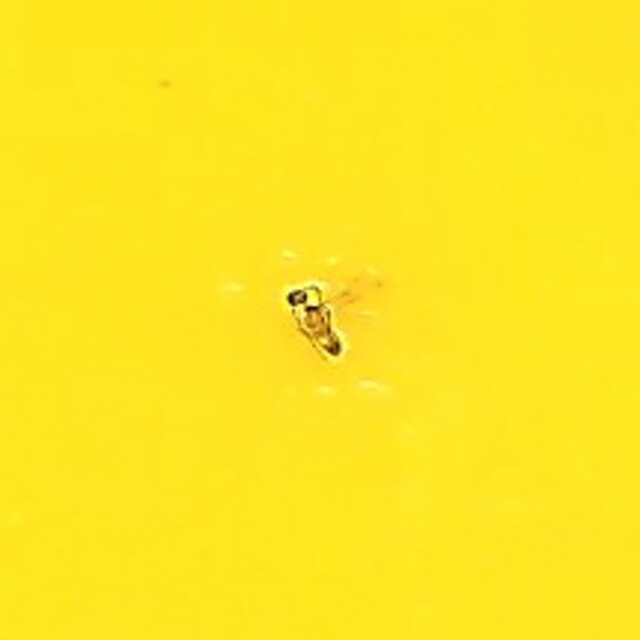Brachycera: (295, 274, 345, 366)
